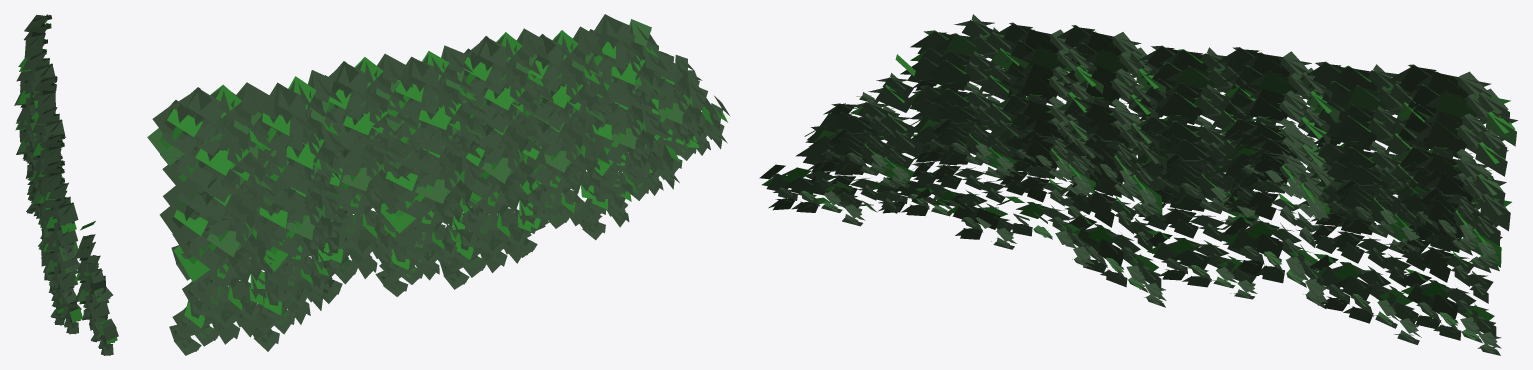
Rendered from Leaf_Wall_02_Mesh.fbx.
The picture shows the model from 3 angles, left to right: view 1: azimuth 30°, elevation 25°; view 2: azimuth 150°, elevation 25°; view 3: azimuth 270°, elevation 25°; orthographic projection. The views are drawn at different scales.
Parts seen in each view (by area): view 1: Leaf_Wall_02_Mesh; view 2: Leaf_Wall_02_Mesh; view 3: Leaf_Wall_02_Mesh.
Boxes of the visible parts, x1,y1,x2,y2 form: Leaf_Wall_02_Mesh: [14, 14, 118, 355]; Leaf_Wall_02_Mesh: [147, 14, 730, 355]; Leaf_Wall_02_Mesh: [759, 14, 1517, 355].
Bounding box in the file's own units: 789 × 806 × 1852.
